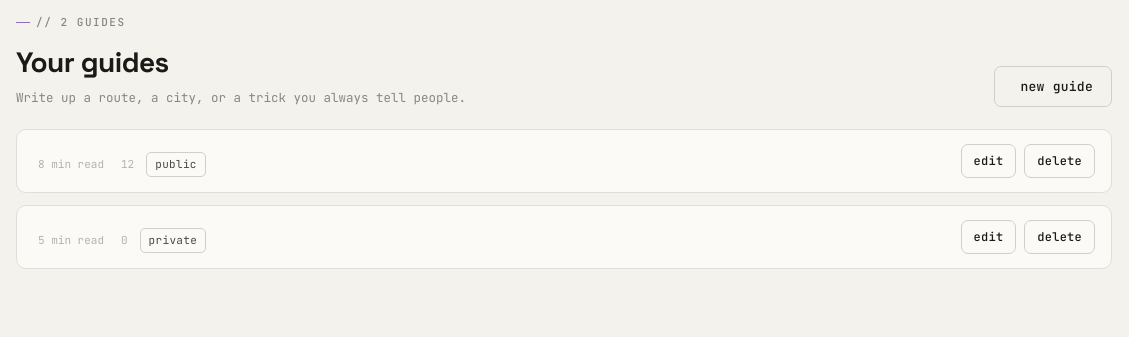
Guides page (/guides) › deleting a guide › shows an error message when deletion fails
Click the button "delete" in the row of "public" at (1060, 161), box 1024,144 -> 1095,178
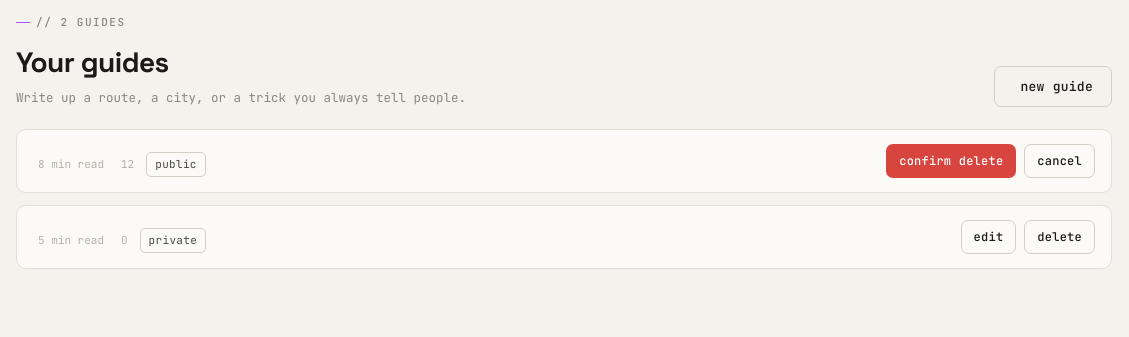
Click the button "confirm delete" at (951, 161), box 886,144 -> 1016,178
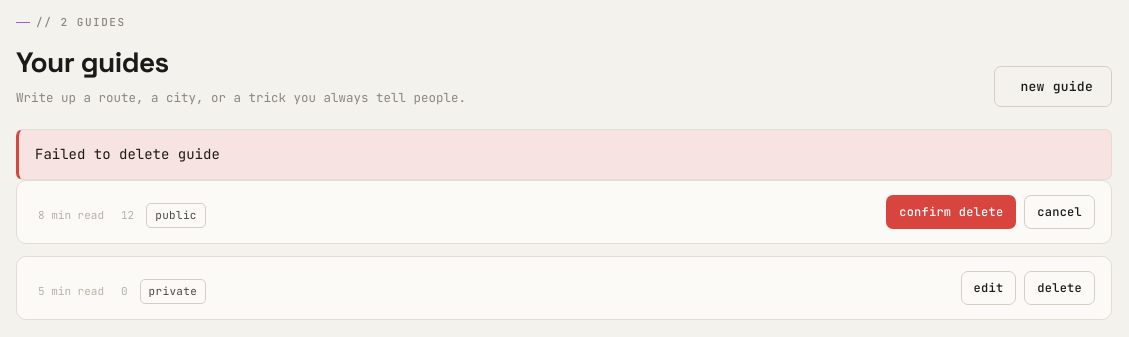
Expected: the text "Failed to delete guide" is shown, 16,129 -> 1112,180
